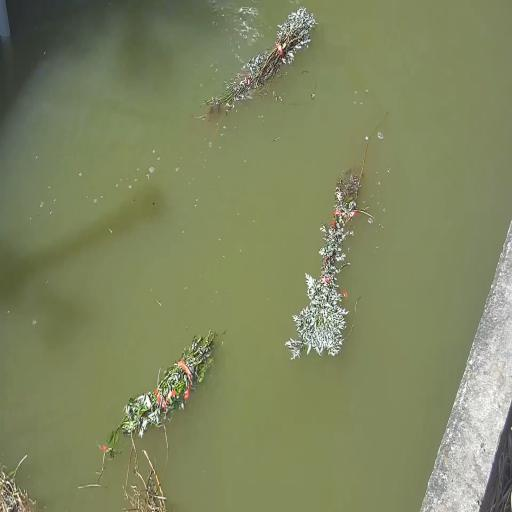twig: (286, 106, 391, 359), (196, 7, 315, 118), (108, 331, 216, 443), (122, 419, 169, 511), (0, 454, 36, 511)
